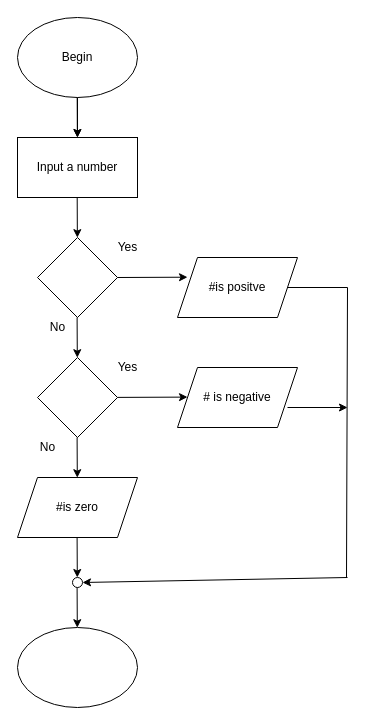
Some shapes in this 373 by 725 pixel diagram are drawn without their labels. The centre of each missing label's shape, as x and y in pixels:
"End" belongs at pixel 77 667.
"Number<0" belongs at pixel 77 397.
"Number>0" belongs at pixel 77 277.
